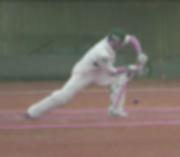batsman: (20, 13, 151, 129)
